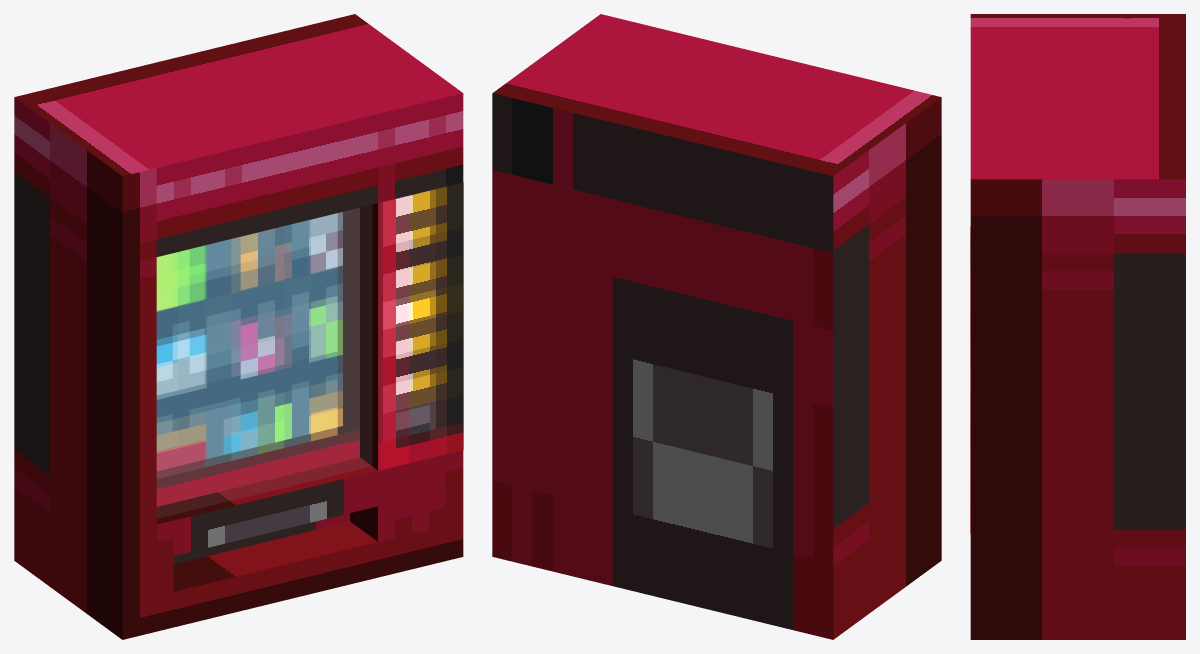
Rendered from vending_snack.glb.
3 renders of one model, left to right at view 1: azimuth 30°, elevation 25°; view 2: azimuth 150°, elevation 25°; view 3: azimuth 270°, elevation 25°, orthographic.
Parts seen in each view (by area): view 1: vending_snack_Cabinet, vending_snack, vending_snack_Display_Glass, vending_snack_Delivery_Flap; view 2: vending_snack_Cabinet; view 3: vending_snack_Cabinet.
Boxes of the visible parts, x1,y1,x2,y2 form: vending_snack_Cabinet: (14,14,463,639); vending_snack: (156,182,463,506); vending_snack_Display_Glass: (157,205,371,517); vending_snack_Delivery_Flap: (173,513,349,564); vending_snack_Cabinet: (492,14,941,639); vending_snack_Cabinet: (970,14,1185,639).
Size of the model in its own units: 1.2 by 1.56 by 0.662.
4 materials, 3 textured.
